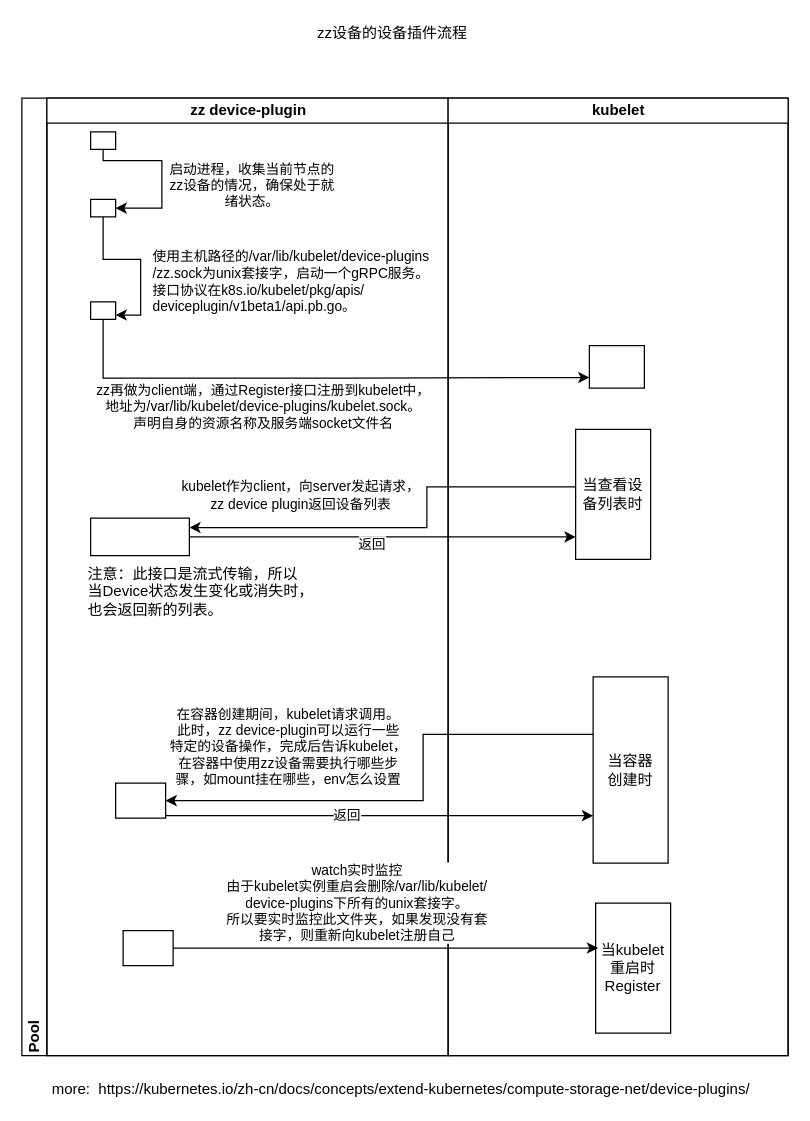
Some shapes in this 810 by 1121 pixel diagram are drawn without their labels. The shapes that lost their labels are listed below. From the top down, each one's centre as x and y in pixels, then its label:
pixel 616 366: Register
pixel 139 536: ListAndWatch
pixel 140 800: Allocate
